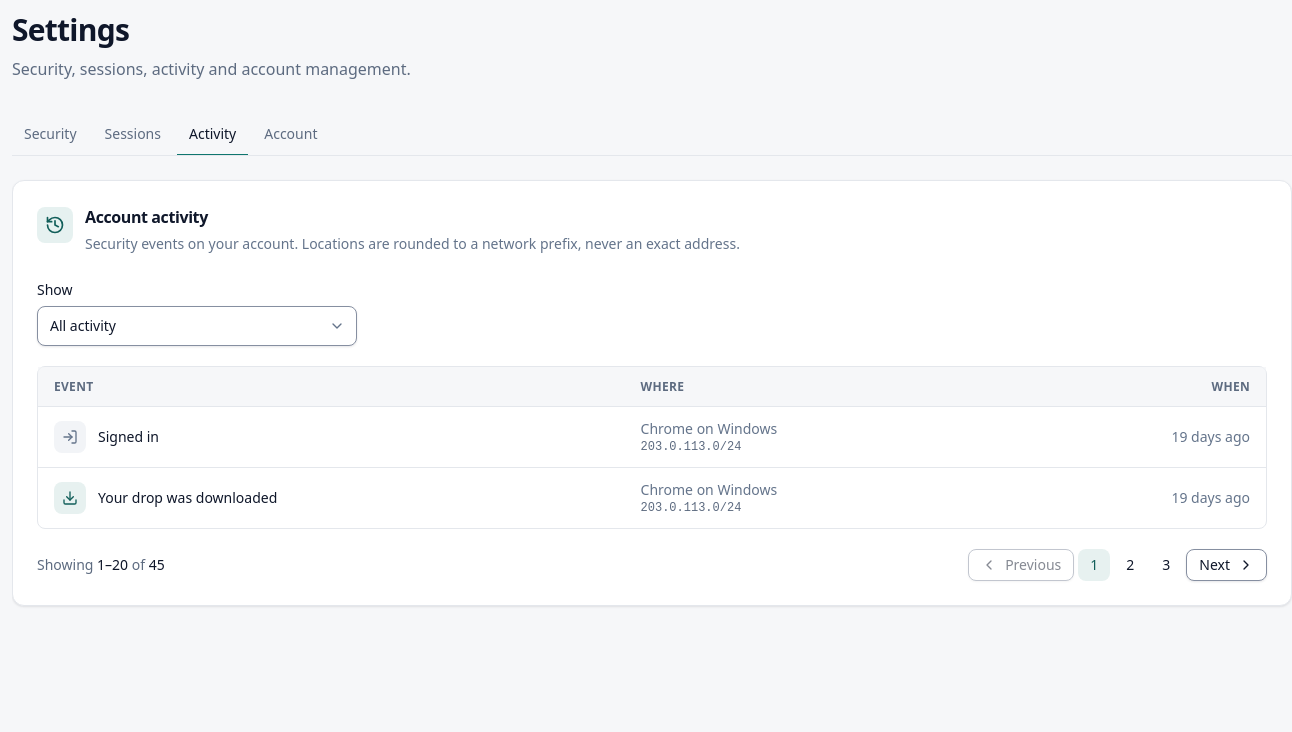
SettingsPage activity tab › shows human labels, filters by action and paginates
Expected: the text "Signed in" is shown, [98,427,159,447]
Expected: the text "Your drop was downloaded" is shown, [98,488,277,508]
Click the button "Next" at (1227, 565), box [1186,549,1267,581]
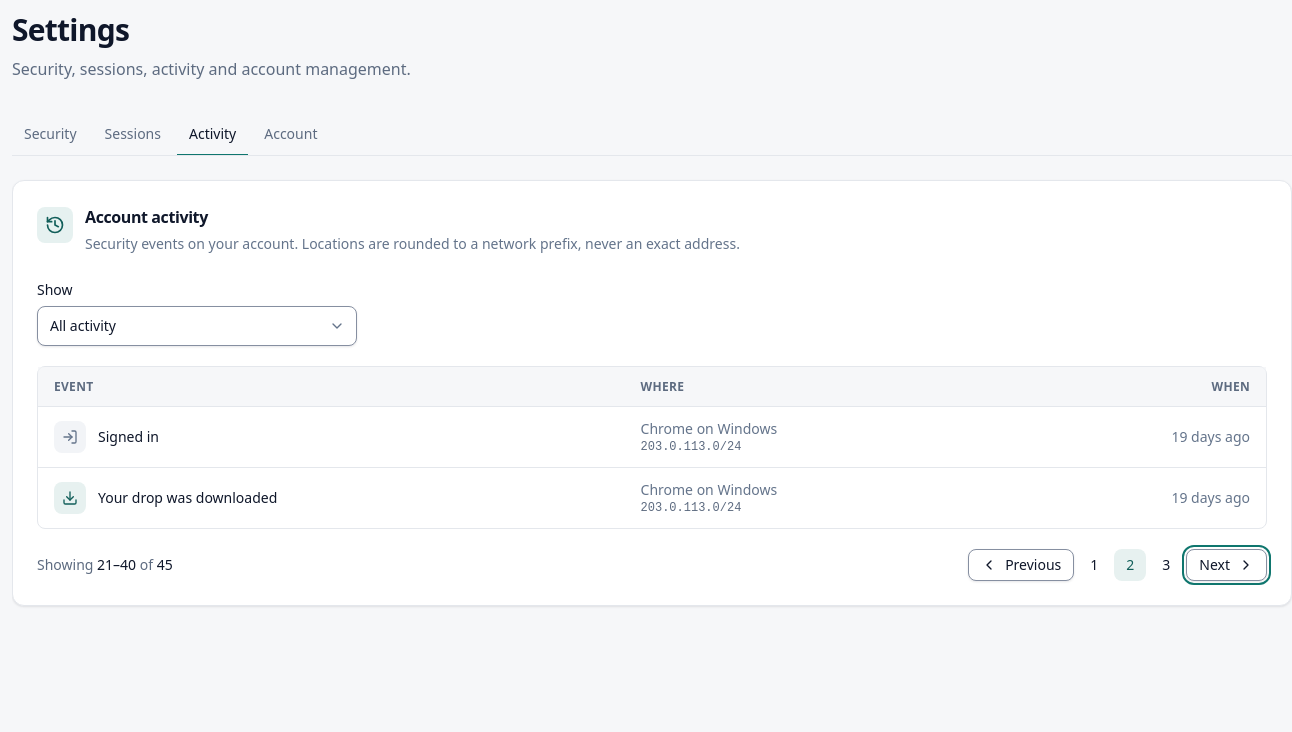
Select "Password changed" in the dropdown labelled "Show" at (197, 326), box [37,306,357,346]
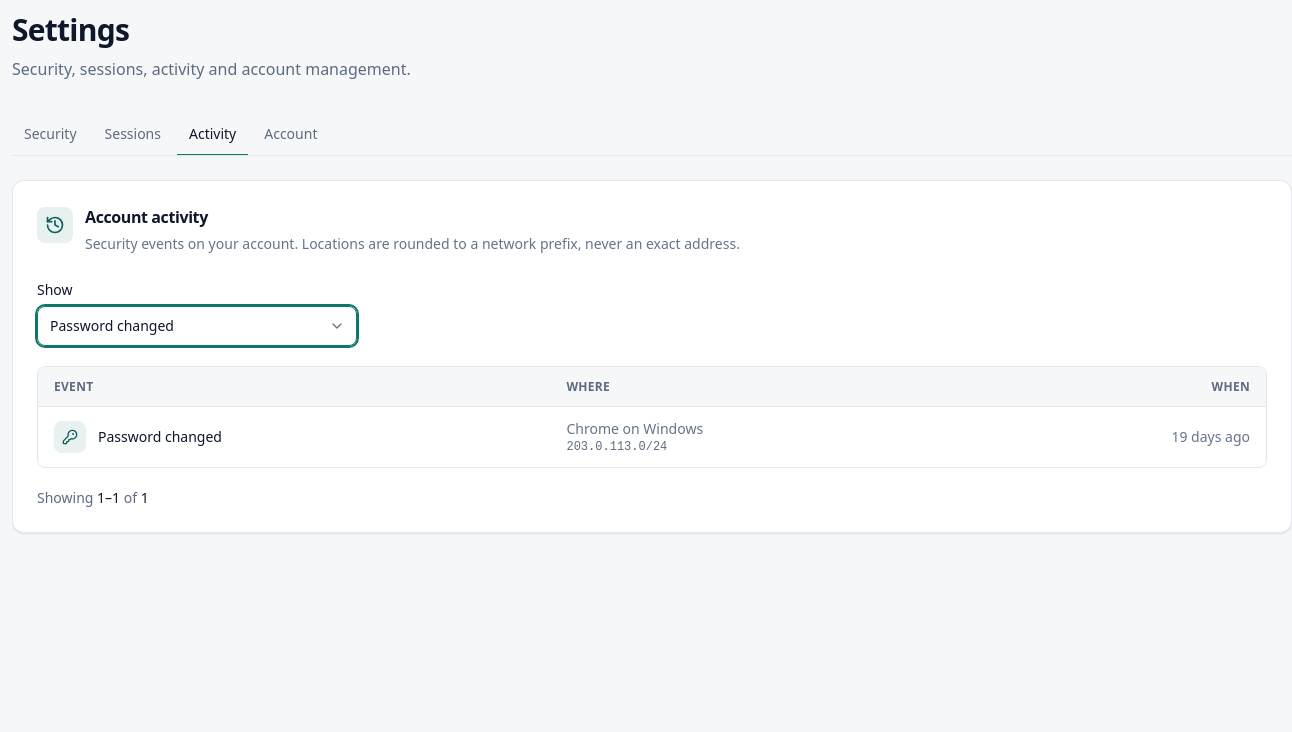
Expected: the text "Password changed" is shown, [98,427,222,447]
